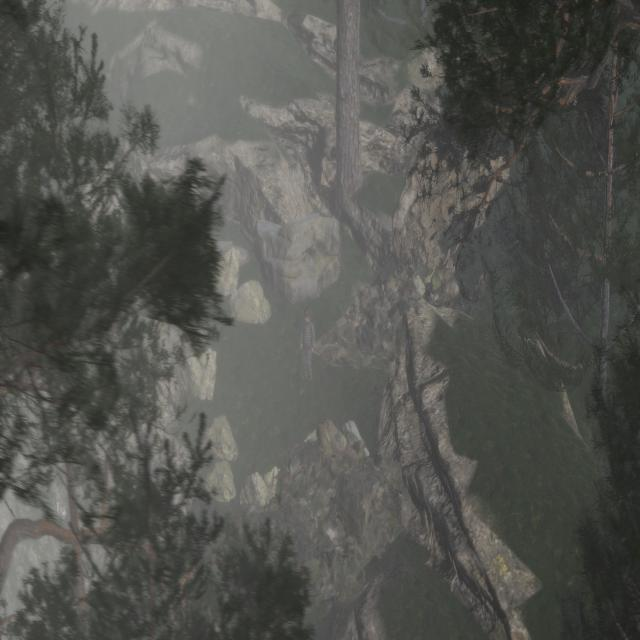Human: (293, 292, 322, 393)
